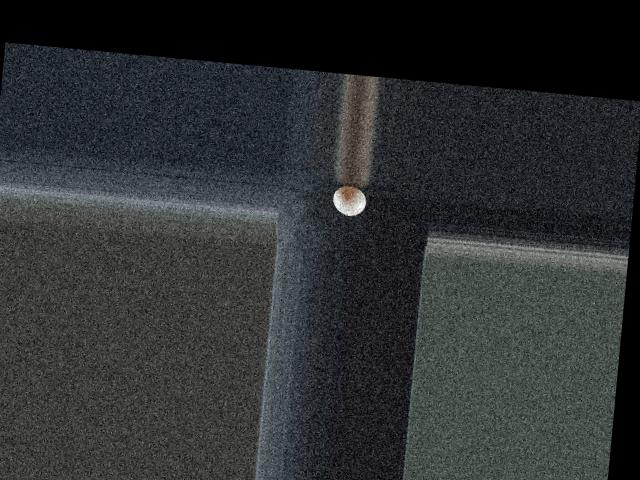egg: (331, 184, 366, 217)
